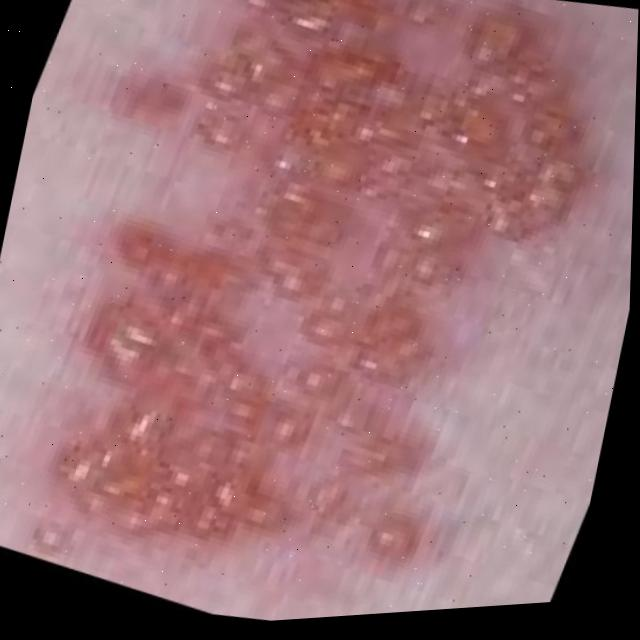Shingles: (43, 0, 604, 594)
